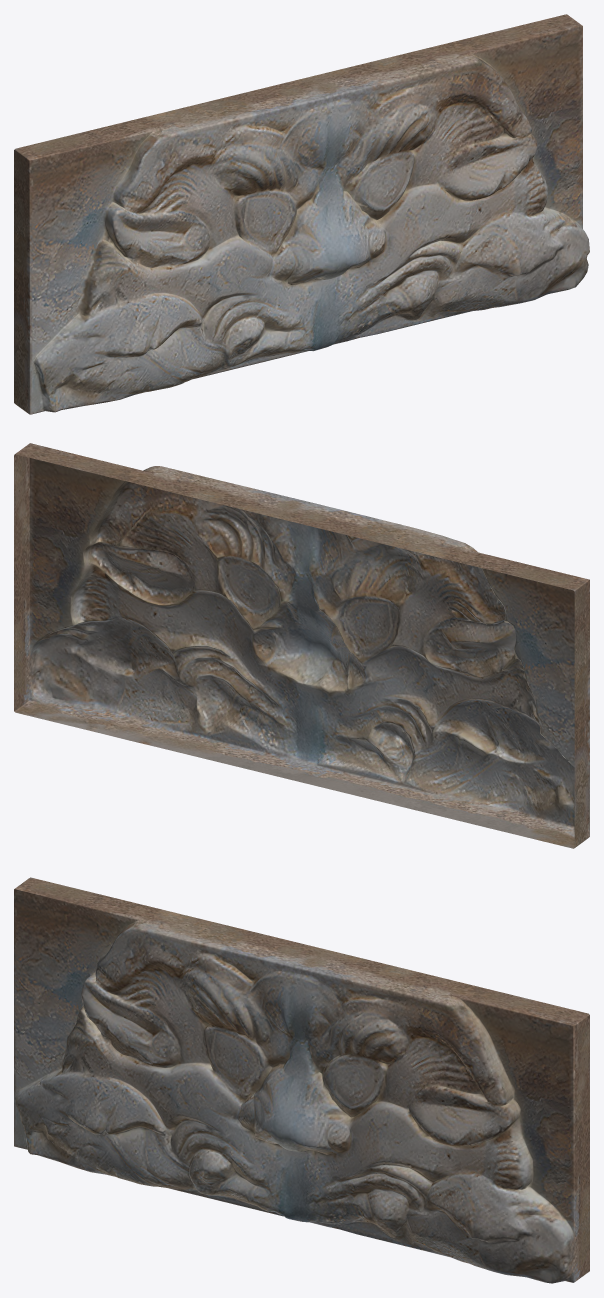
The model's file is ShouTou.glb.
The picture shows the model from 3 angles, top to bottom: view 1: azimuth 30°, elevation 25°; view 2: azimuth 150°, elevation 25°; view 3: azimuth 330°, elevation 25°; orthographic projection.
Parts seen in each view (by area): view 1: ShouTou; view 2: ShouTou; view 3: ShouTou.
Part boxes in pixels (box(x1,y1,x2,y2)): ShouTou: box(14, 14, 589, 414); ShouTou: box(14, 443, 589, 848); ShouTou: box(14, 877, 589, 1283).
Bounding box in the file's own units: 1.21 × 0.5343 × 0.1434.
1 material, 1 textured.
